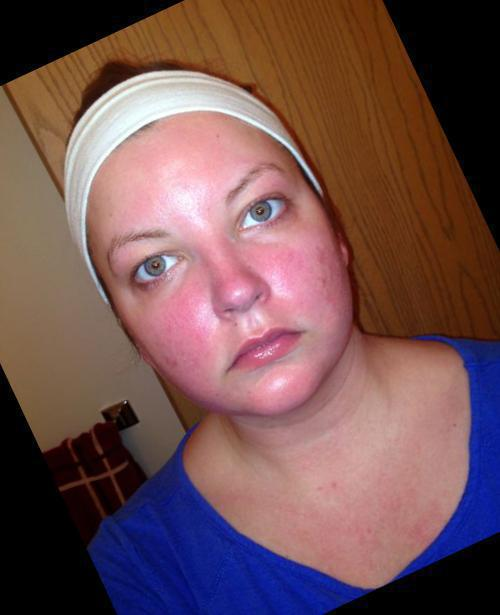Drunk: (94, 154, 343, 393)
